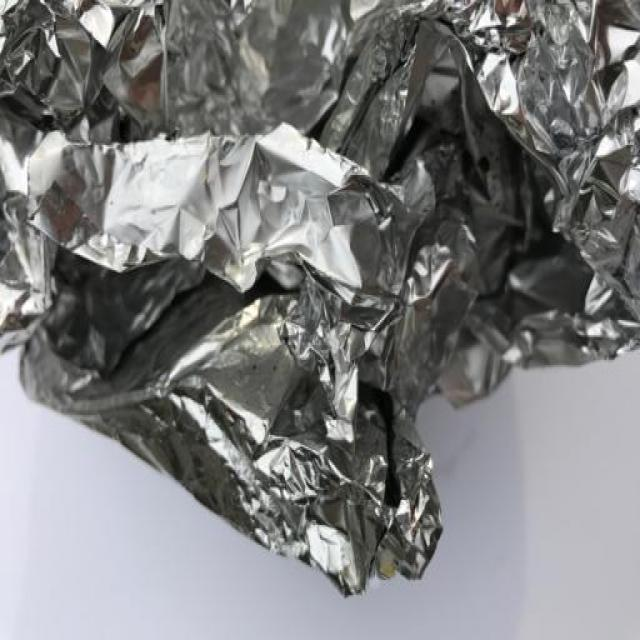plastic_bag: (18, 115, 475, 607), (297, 1, 640, 359)
